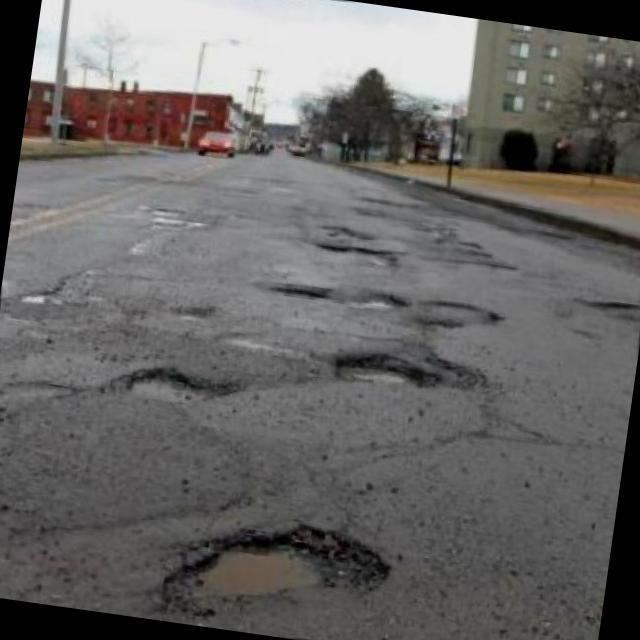Pothole: (164, 524, 390, 614), (332, 345, 480, 393), (120, 368, 242, 404)
